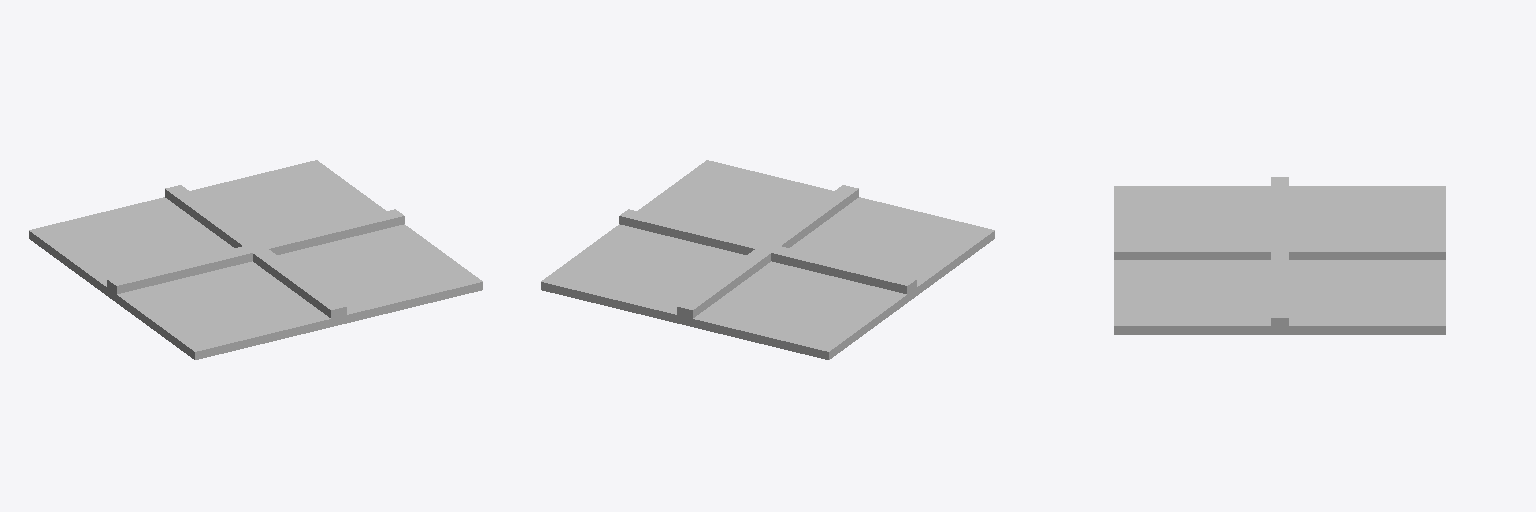
File: SL_Crate2_Top.obj
3 views of the same model, side by side, from view 1: azimuth 30°, elevation 25°; view 2: azimuth 150°, elevation 25°; view 3: azimuth 270°, elevation 25° (orthographic).
Visible parts, largest first — view 1: SL_Crate2_Top; view 2: SL_Crate2_Top; view 3: SL_Crate2_Top.
Boxes of the visible parts, box(x1,y1,x2,y2) form: SL_Crate2_Top: box(29, 160, 482, 359); SL_Crate2_Top: box(541, 160, 994, 359); SL_Crate2_Top: box(1114, 177, 1445, 334).
Size of the model in its own units: 36 by 2 by 36.